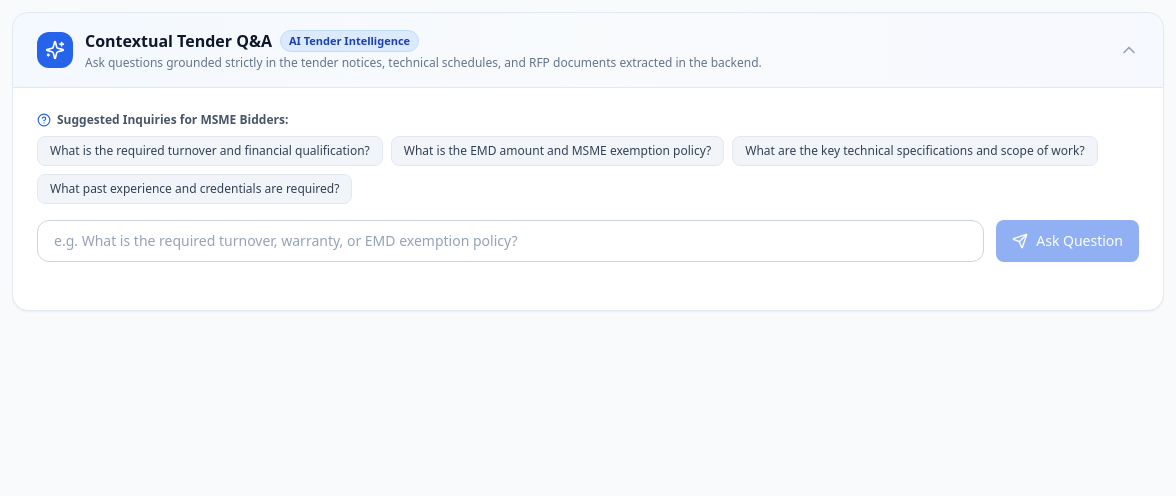
Scenario: TenderQAPanel Component › handles insufficient evidence status gracefully
The image size is (1176, 496).
Step 1. Replace the text in the field with placeholder "What is the required turnover" with "What are the rules regarding catering?" → (511, 241), box x1=37 y1=220 x2=984 y2=262
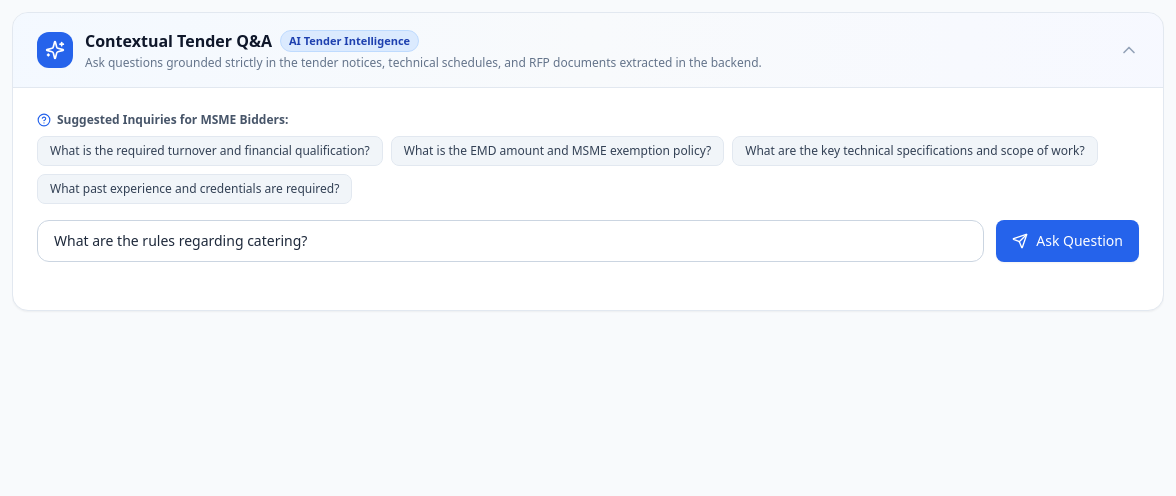
Step 2. Click the button "Ask Question" → (1068, 241), box x1=996 y1=220 x2=1139 y2=262
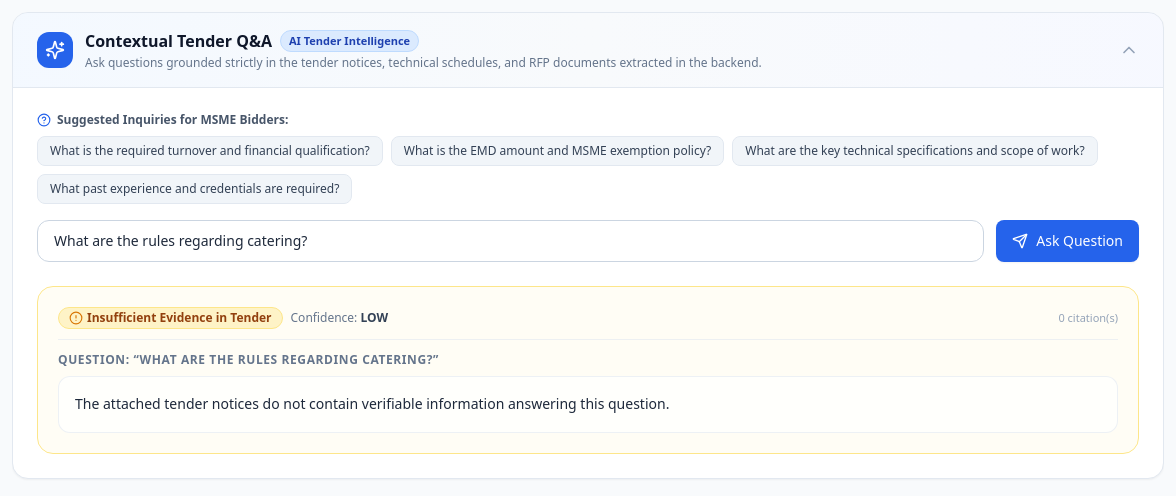
Now the text "Insufficient Evidence in Tender" is shown, box x1=58 y1=307 x2=282 y2=329
Now the text "The attached tender notices do not contain verifiable information" is shown, box x1=75 y1=394 x2=669 y2=413
